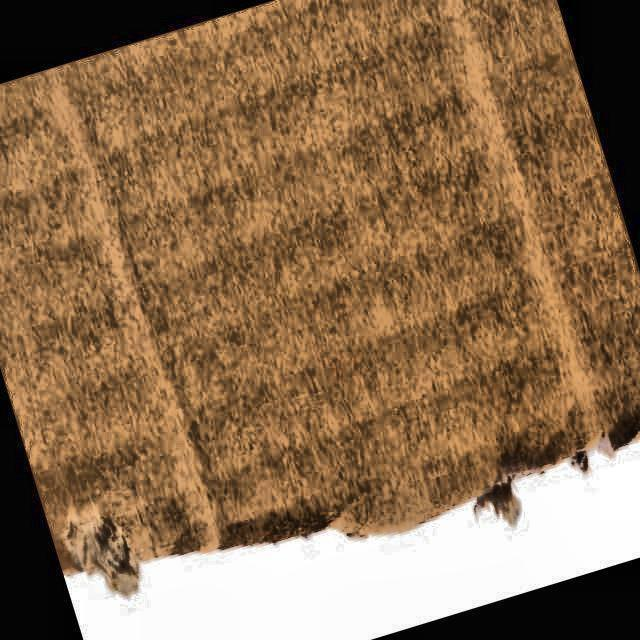cardboard: (0, 0, 640, 602)
